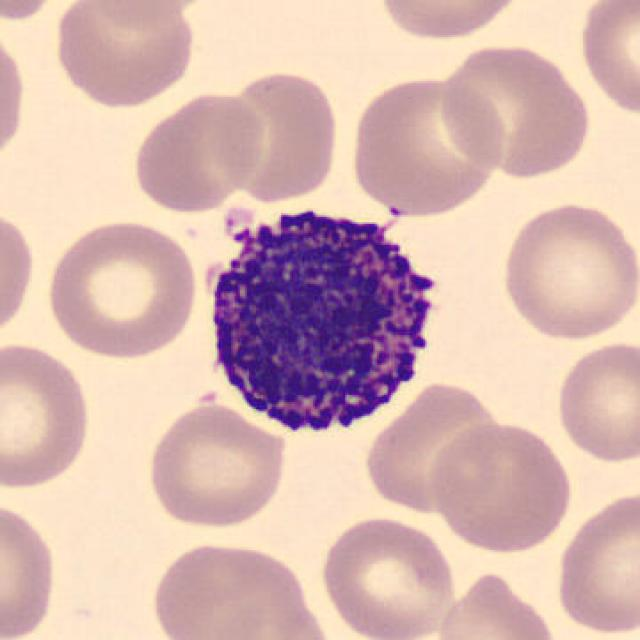Basophil: (192, 188, 455, 448)
RBC: (345, 70, 508, 218), (41, 215, 201, 362), (436, 39, 594, 180), (496, 196, 638, 344), (425, 418, 576, 555), (142, 400, 290, 531), (145, 537, 330, 640), (316, 511, 458, 640), (212, 67, 343, 205), (364, 383, 501, 514), (128, 88, 268, 215), (50, 0, 201, 109), (0, 337, 96, 492), (551, 487, 638, 638), (551, 337, 640, 465), (428, 567, 561, 640), (0, 495, 62, 640), (574, 0, 638, 120), (373, 0, 531, 42), (0, 202, 37, 349), (0, 23, 30, 171), (87, 0, 217, 30), (0, 0, 71, 23)
